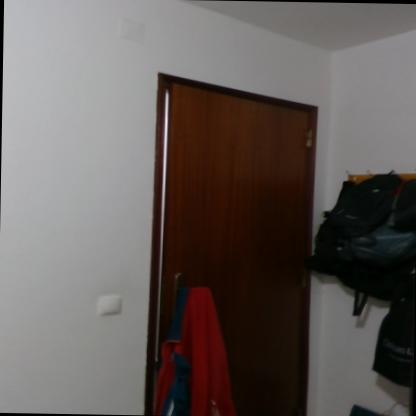closed: (138, 73, 338, 413)
